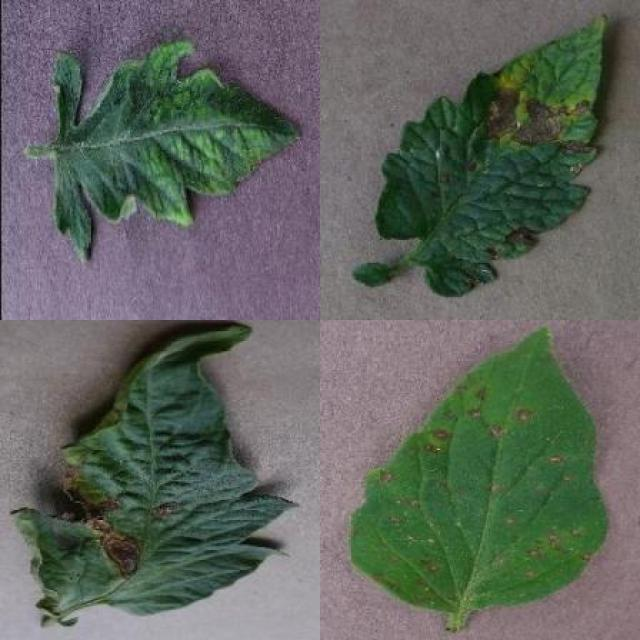Early Blight: (12, 324, 301, 616), (375, 15, 608, 295)
Mosaic Virus: (47, 40, 303, 266)
Septoria: (348, 328, 612, 612)
